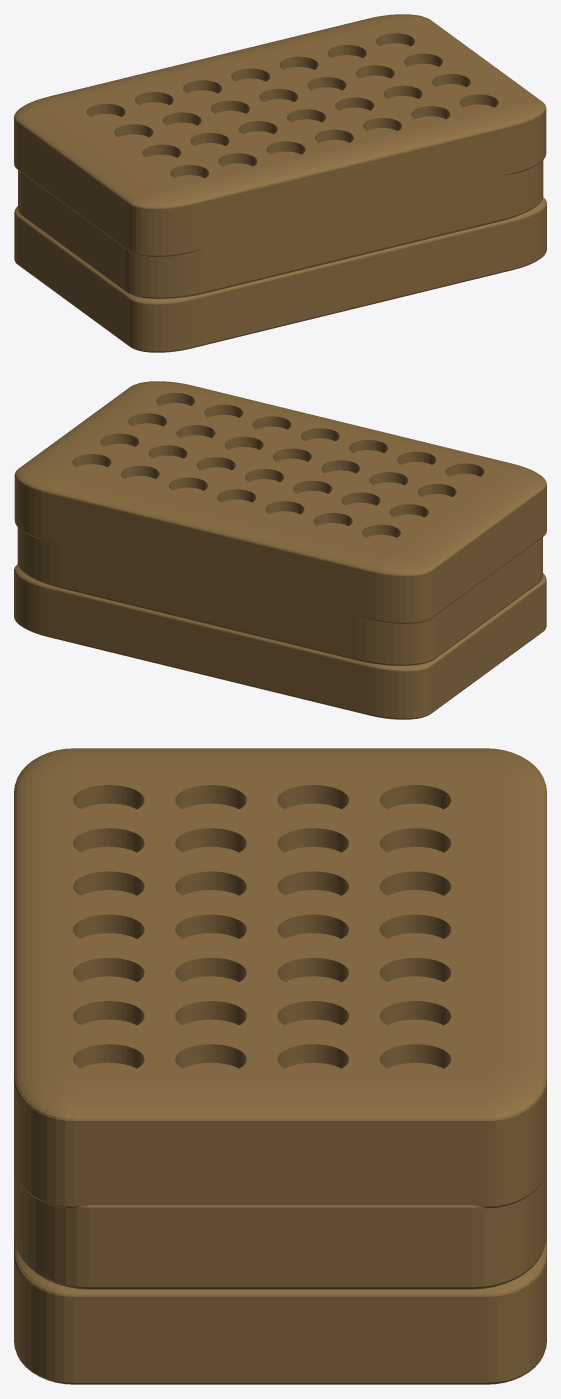
Rendered from Grady - Ice Cream Sandwich.glb.
The picture shows the model from 3 angles, top to bottom: view 1: azimuth 30°, elevation 25°; view 2: azimuth 150°, elevation 25°; view 3: azimuth 270°, elevation 25°; orthographic projection. The views are drawn at different scales.
Visible parts, largest first — view 1: Mesh_Mesh_head_geo.001_lambert2SG.001; view 2: Mesh_Mesh_head_geo.001_lambert2SG.001; view 3: Mesh_Mesh_head_geo.001_lambert2SG.001.
Boxes of the visible parts, x1,y1,x2,y2 form: Mesh_Mesh_head_geo.001_lambert2SG.001: (14, 14, 546, 352); Mesh_Mesh_head_geo.001_lambert2SG.001: (14, 381, 546, 719); Mesh_Mesh_head_geo.001_lambert2SG.001: (14, 748, 546, 1384).
Size of the model in its own units: 0.086 by 0.0309 by 0.0521.
